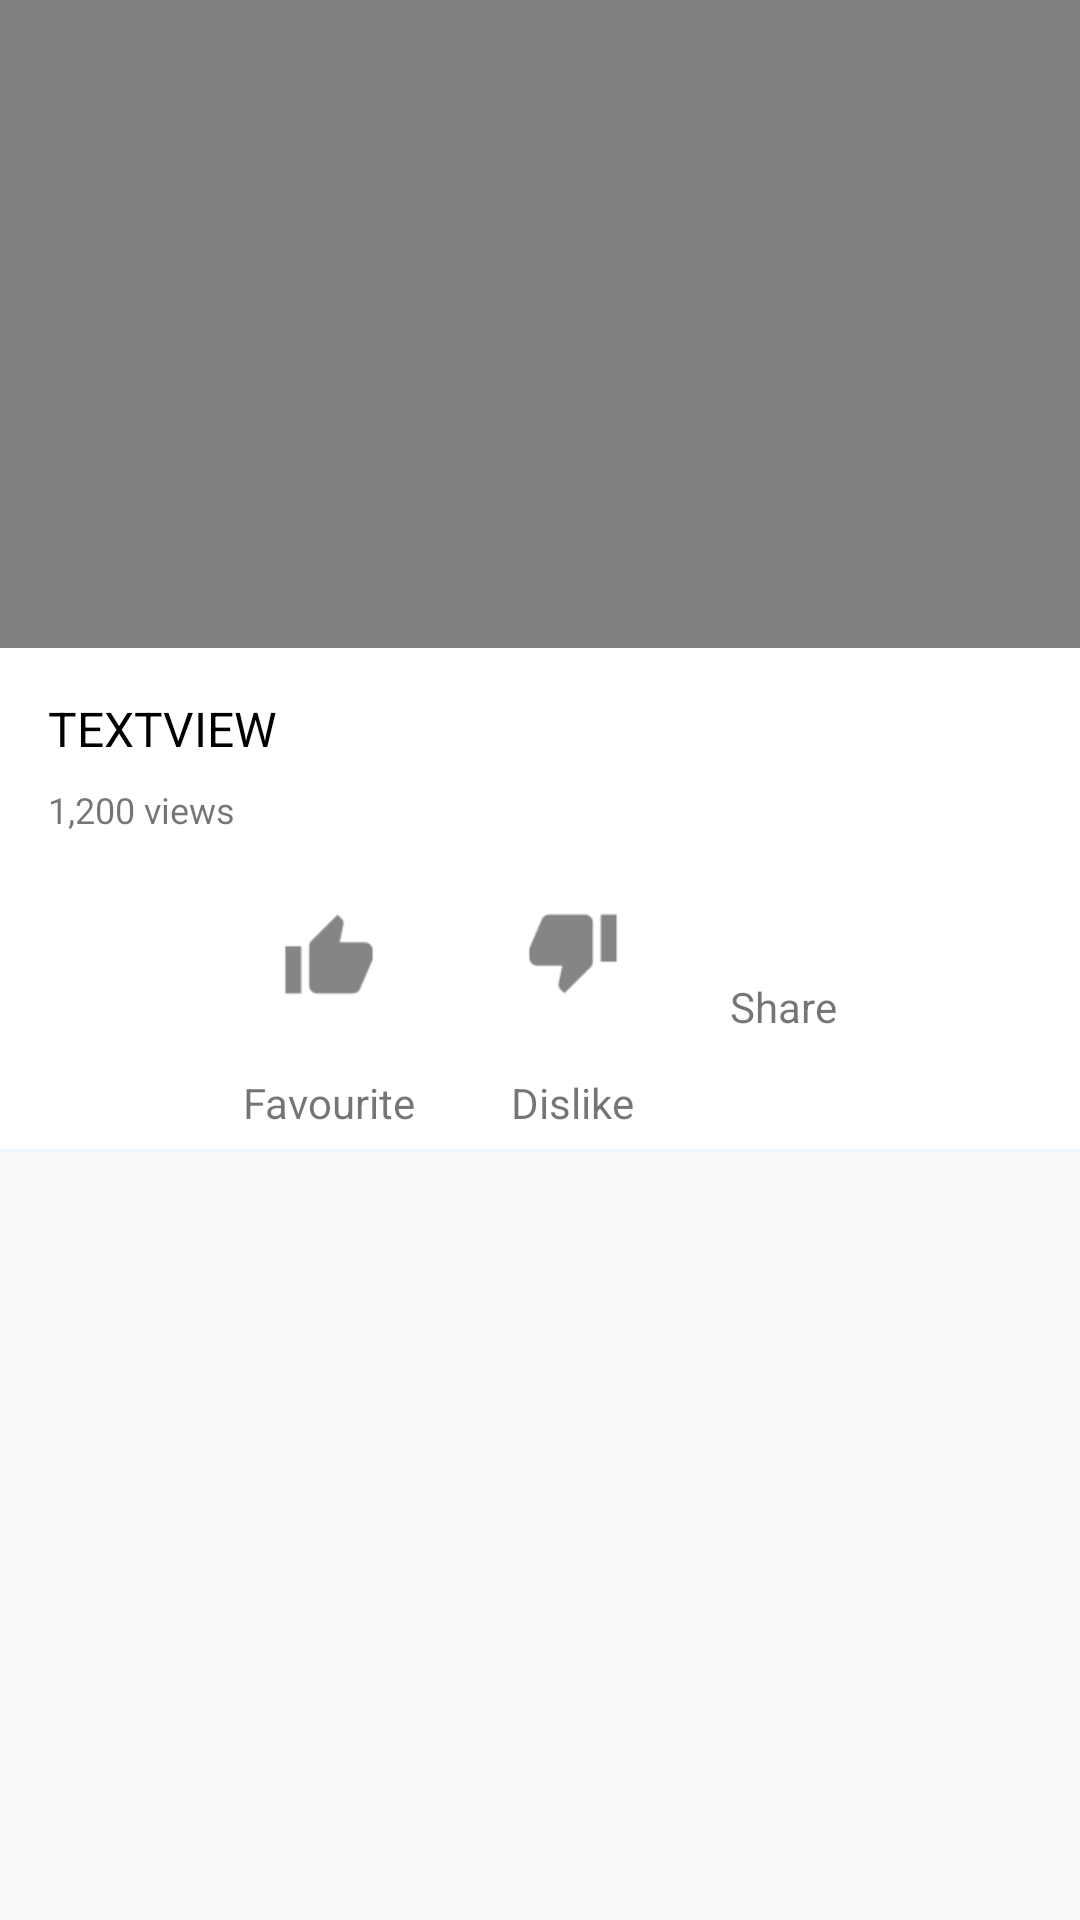

Screen size 1080px×1920px. Icon name, then its center in pixels as point (x, y):
unlike: point (573, 953)
